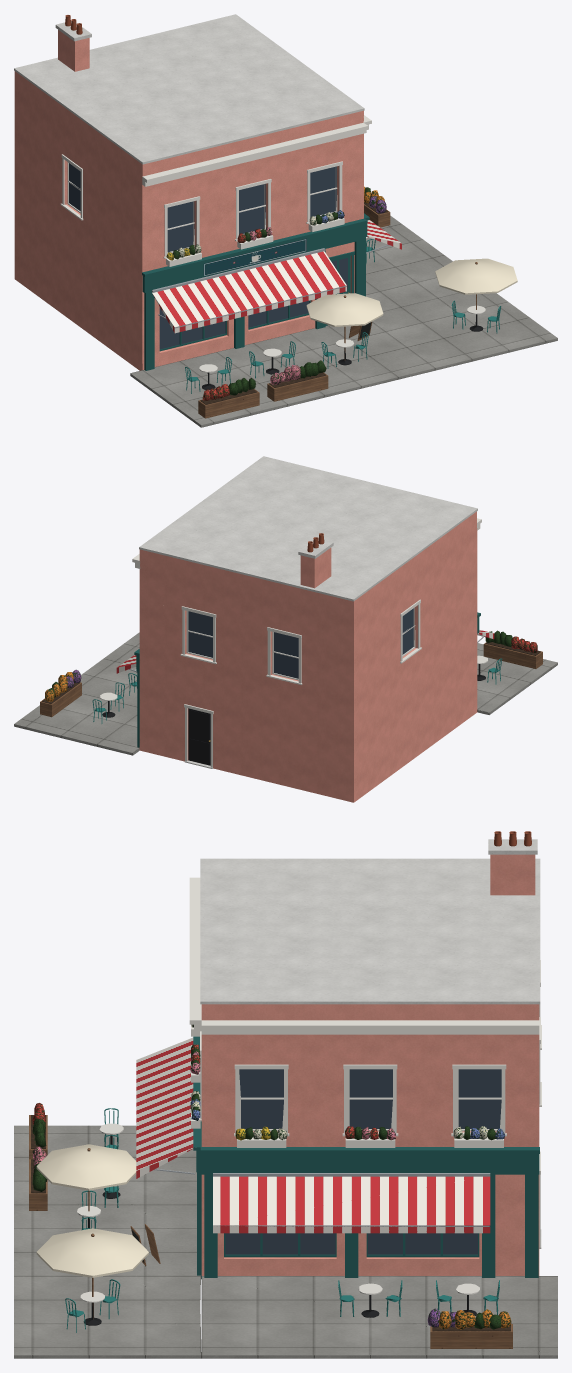
File: corner-cafe.glb
3 renders of one model, top to bottom at view 1: azimuth 30°, elevation 25°; view 2: azimuth 150°, elevation 25°; view 3: azimuth 270°, elevation 25°, orthographic. The views are drawn at different scales.
Parts seen in each view (by area): view 1: Corner_Caf; view 2: Corner_Caf; view 3: Corner_Caf.
Boxes of the visible parts, x1,y1,x2,y2 form: Corner_Caf: [14, 14, 557, 427]; Corner_Caf: [14, 456, 557, 802]; Corner_Caf: [14, 831, 557, 1358].
Size of the model in its own units: 14.5 by 9.88 by 14.5.
Materials: 29 (17 with a texture image).
